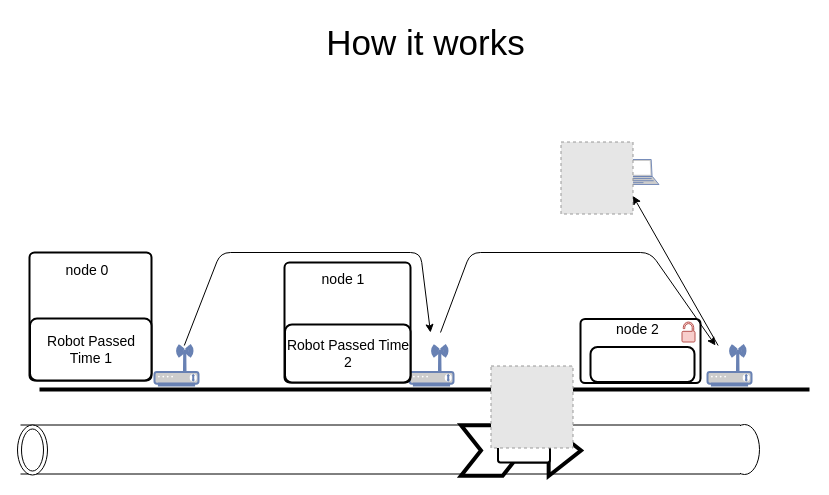
Some shapes in this 829 by 495 pixel diagram are drawn without their labels. Grey dashed boxes stand in for pictures. Here are the shapes that lost their labels. From the top down, the centre of each, then its label:
point 642,364: Not passed
point 523,450: Robot
